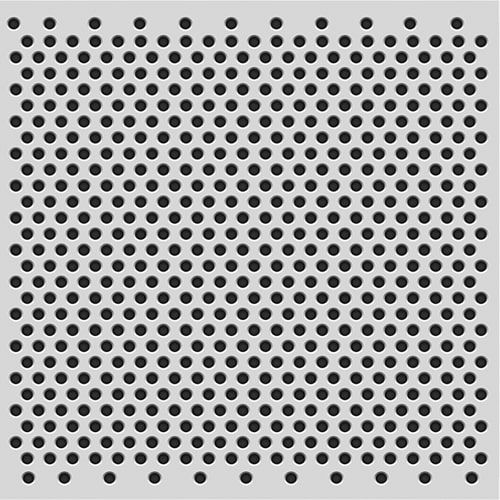Hole: (86, 14, 104, 33), (473, 31, 491, 50), (358, 14, 376, 32), (86, 32, 105, 49), (41, 14, 58, 32), (268, 14, 286, 31), (401, 14, 419, 31), (382, 32, 400, 49), (177, 14, 194, 31), (449, 14, 466, 31), (314, 33, 331, 50), (269, 32, 286, 49), (6, 15, 22, 33), (131, 15, 149, 31), (224, 14, 240, 32), (200, 33, 218, 49), (177, 33, 195, 49), (155, 33, 173, 49), (76, 48, 92, 66), (211, 49, 229, 65), (314, 14, 330, 31), (223, 33, 240, 49), (132, 33, 149, 49), (64, 33, 81, 49), (302, 49, 319, 65), (325, 49, 342, 65), (416, 49, 433, 65), (461, 48, 477, 65), (41, 34, 59, 49), (450, 33, 466, 49), (405, 33, 421, 49), (360, 33, 376, 49), (292, 33, 308, 49), (247, 33, 263, 49), (19, 32, 35, 48), (31, 49, 47, 65), (144, 49, 160, 65), (167, 49, 183, 65), (394, 49, 410, 65), (427, 33, 444, 48), (337, 33, 354, 48), (110, 33, 127, 48), (99, 49, 114, 66), (189, 50, 207, 64), (8, 50, 24, 65), (54, 49, 70, 64), (235, 50, 251, 65), (280, 49, 295, 65), (122, 49, 136, 65), (371, 50, 387, 64), (258, 50, 273, 64), (349, 50, 364, 64), (440, 50, 455, 64)
